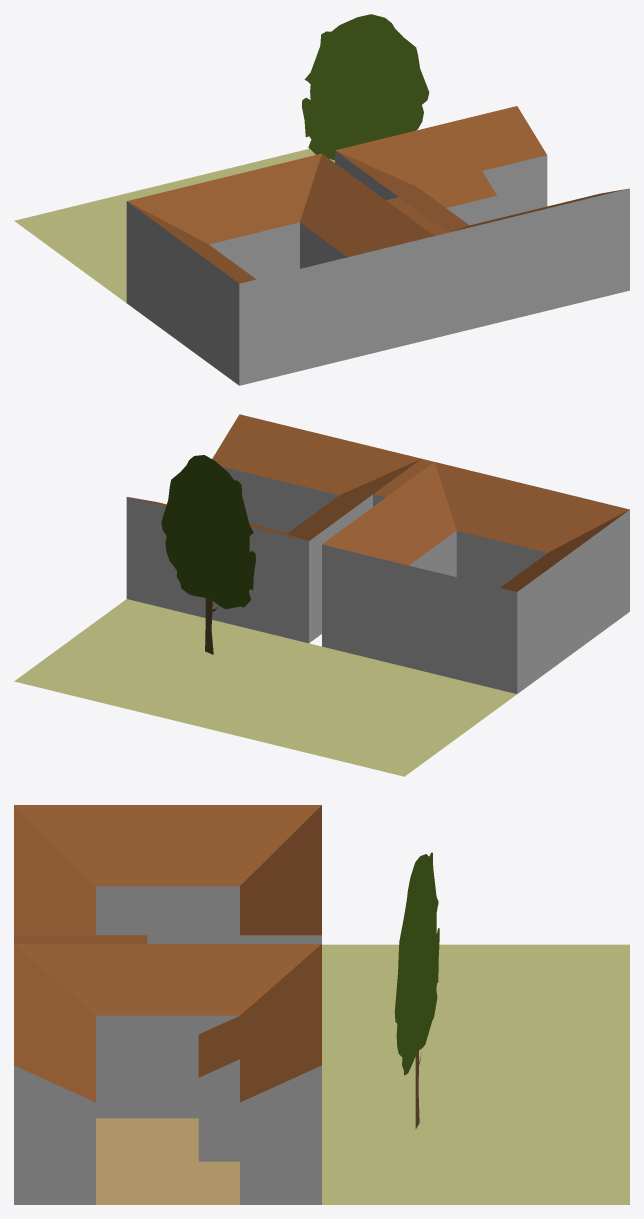
3 renders of one model, top to bottom at view 1: azimuth 30°, elevation 25°; view 2: azimuth 150°, elevation 25°; view 3: azimuth 270°, elevation 25°, orthographic. The views are drawn at different scales.
Visible parts, largest first — view 1: ww22; view 2: ww22; view 3: ww22.
Boxes of the visible parts, box(x1,y1,x2,y2) form: ww22: box(14, 14, 629, 385); ww22: box(14, 414, 629, 776); ww22: box(14, 805, 629, 1204).
Size of the model in its own units: 30 by 14.41 by 30.
